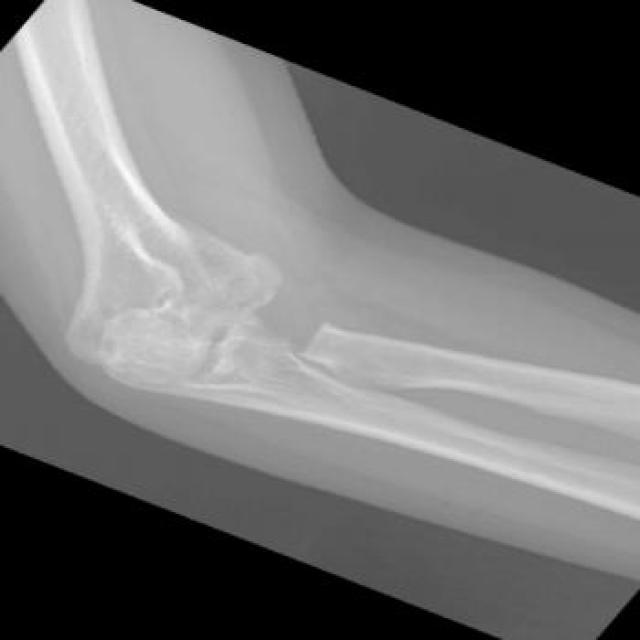Fracture: (242, 282, 338, 356)
